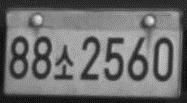0: (152, 36, 174, 83)
2: (78, 34, 100, 81)
5: (103, 36, 125, 82)
6: (126, 35, 149, 82)
8: (8, 35, 29, 79), (30, 35, 51, 79)
소: (52, 45, 74, 81)
